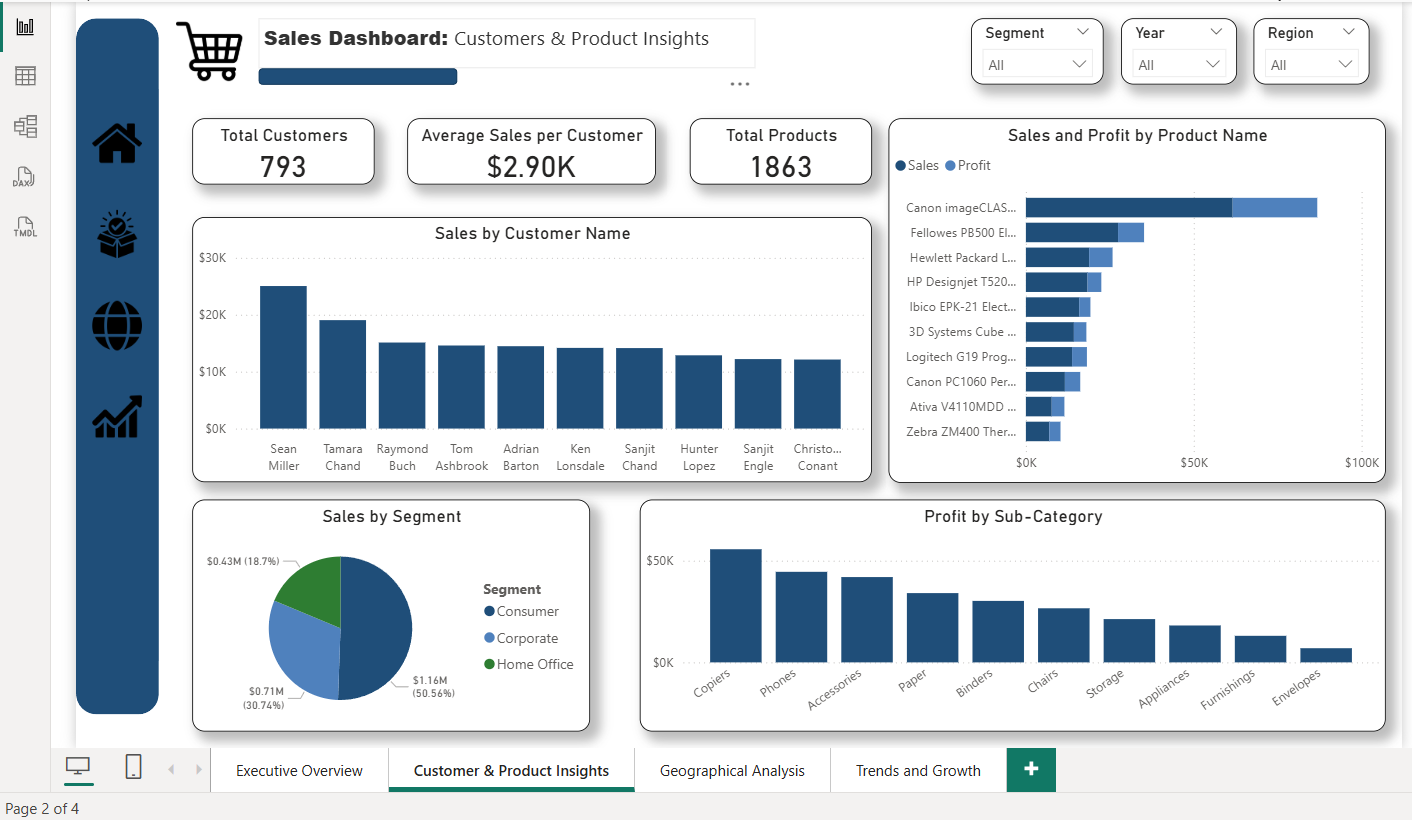

The page's visual inventory and layout, read from the dashboard file:
{"tool":"powerbi","page":{"name":"Customer & Product Insights","canvas":[1280,720],"ordinal":1},"visuals":[{"type":"card","title":"Total Customers","fields":{"Values":["dim_Customers.Customer ID"]},"box":[112,112,176,64],"z":0},{"type":"card","title":"Average Sales per Customer","fields":{"Values":["fact_superstore.Sum of Sales average per Customer ID 2"]},"box":[320,112,240,64],"z":1000},{"type":"slicer","fields":{"Values":["dim_Date.Year"]},"box":[1008,16,112,64],"z":2000},{"type":"slicer","fields":{"Values":["dim_Customers.Region"]},"box":[1136,16,112,64],"z":3000},{"type":"card","title":"Total Products","fields":{"Values":["dim_Products.Product ID"]},"box":[592,112,176,64],"z":4000},{"type":"slicer","fields":{"Values":["dim_Customers.Segment"]},"box":[864,16,128,64],"z":5000},{"type":"image","box":[96,16,64,64],"z":6000},{"type":"textbox","box":[176,16,480,48],"z":7000},{"type":"shape","box":[176,64,192,16],"z":8000},{"type":"shape","box":[0,16,80,672],"z":9000},{"type":"image","box":[16,112,48,48],"z":10000},{"type":"columnChart","fields":{"Category":["dim_Customers.Customer Name"],"Y":["fact_superstore.Sales"]},"box":[112,208,656,256],"z":11000},{"type":"pieChart","fields":{"Y":["fact_superstore.Sales"],"Series":["dim_Customers.Segment"]},"box":[112,480,384,224],"z":12000},{"type":"barChart","fields":{"Category":["dim_Products.Product Name"],"Y":["fact_superstore.Sales","fact_superstore.Profit"]},"box":[784,112,480,352],"z":13000},{"type":"columnChart","fields":{"Y":["fact_superstore.Profit"],"Category":["dim_Products.Sub-Category"]},"box":[544,480,720,224],"z":14000},{"type":"image","box":[16,192,48,64],"z":15000},{"type":"image","box":[16,288,48,48],"z":16000},{"type":"image","box":[16,368,48,64],"z":17000}]}

Visuals, with their boxes on the page's 1280x720 design canvas (x1, y1, x2, y2). These are canvas units, not pixel positions in the 1412x820 screenshot, which may show the page scaled, cropped or inside an application window:
"Total Customers" card: locate(112, 112, 288, 176)
"Average Sales per Customer" card: locate(320, 112, 560, 176)
slicer - dim_Date.Year: locate(1008, 16, 1120, 80)
slicer - dim_Customers.Region: locate(1136, 16, 1248, 80)
"Total Products" card: locate(592, 112, 768, 176)
slicer - dim_Customers.Segment: locate(864, 16, 992, 80)
image: locate(96, 16, 160, 80)
textbox: locate(176, 16, 656, 64)
shape: locate(176, 64, 368, 80)
shape: locate(0, 16, 80, 688)
image: locate(16, 112, 64, 160)
columnChart - dim_Customers.Customer Name x fact_superstore.Sales: locate(112, 208, 768, 464)
pieChart - fact_superstore.Sales x dim_Customers.Segment: locate(112, 480, 496, 704)
barChart - dim_Products.Product Name x fact_superstore.Sales: locate(784, 112, 1264, 464)
columnChart - fact_superstore.Profit x dim_Products.Sub-Category: locate(544, 480, 1264, 704)
image: locate(16, 192, 64, 256)
image: locate(16, 288, 64, 336)
image: locate(16, 368, 64, 432)
